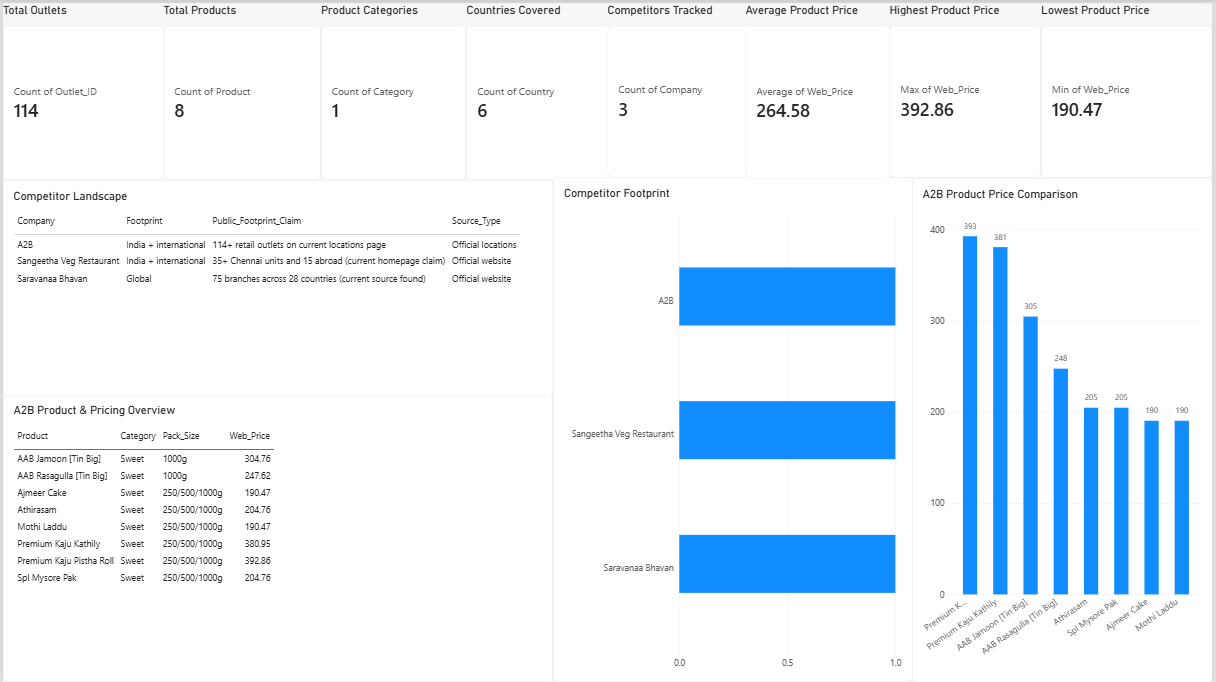

This screenshot's page, from the dashboard's own definition file:
{"tool":"powerbi","page":{"name":"Customer & Menu Intelligence","canvas":[1920,1080],"ordinal":2},"visuals":[{"type":"cardVisual","title":"Total Outlets","fields":{"Data":["Count(A2B_114_Outlets.Outlet_ID)"]},"box":[0,0,255,280],"z":0},{"type":"cardVisual","title":"Total Products","fields":{"Data":["Count(A2B_Menu_Pricing.Product)"]},"box":[255,0,250,280],"z":1000},{"type":"cardVisual","title":"Product Categories","fields":{"Data":["Count(A2B_Menu_Pricing.Category)"]},"box":[505,0,230,280],"z":2000},{"type":"cardVisual","title":"Countries Covered","fields":{"Data":["Count(A2B_International.Country)"]},"box":[735,0,237.5,280],"z":3000},{"type":"tableEx","title":"A2B Product & Pricing Overview","fields":{"Values":["A2B_Menu_Pricing.Product","A2B_Menu_Pricing.Category","A2B_Menu_Pricing.Pack_Size","A2B_Menu_Pricing.Web_Price"]},"box":[10,623.3,863.3,456.7],"z":4000},{"type":"tableEx","title":"Competitor Landscape","fields":{"Values":["Competitors.Company","Competitors.Footprint","Competitors.Public_Footprint_Claim","Competitors.Source_Type"]},"box":[0,280,873.3,343.3],"z":5000},{"type":"cardVisual","title":"Competitors Tracked","fields":{"Data":["Count(Competitors.Company)"]},"box":[960,0,237.5,277.5],"z":6000},{"type":"barChart","title":"Competitor Footprint","fields":{"Category":["Competitors.Company"],"Y":["CountNonNull(Competitors.Footprint)"]},"box":[873.3,276.7,570,803.3],"z":7000},{"type":"lineClusteredColumnComboChart","title":"A2B Product Price Comparison","fields":{"Category":["A2B_Menu_Pricing.Product"],"Y":["Avg(A2B_Menu_Pricing.Web_Price)"]},"box":[1442.5,277.5,477.5,802.5],"z":8000},{"type":"cardVisual","title":"Average Product Price","fields":{"Data":["Avg(A2B_Menu_Pricing.Web_Price)"]},"box":[1177.5,0,230,280],"z":9000},{"type":"cardVisual","title":"Highest Product Price","fields":{"Data":["Max(A2B_Menu_Pricing.Web_Price)"]},"box":[1407.5,0,240,277.5],"z":10000},{"type":"cardVisual","title":"Lowest Product Price","fields":{"Data":["Min(A2B_Menu_Pricing.Web_Price)"]},"box":[1647.5,0,272.5,277.5],"z":11000}]}

Visuals, with their boxes in screenshot pixels (x1, y1, x2, y2), scaled from the page's 1920x1080 canvas onto the 1216x682 screenshot:
"Total Outlets" cardVisual: detection(0, 0, 162, 177)
"Total Products" cardVisual: detection(162, 0, 320, 177)
"Product Categories" cardVisual: detection(320, 0, 466, 177)
"Countries Covered" cardVisual: detection(466, 0, 616, 177)
"A2B Product & Pricing Overview" tableEx: detection(6, 394, 553, 681)
"Competitor Landscape" tableEx: detection(0, 177, 553, 394)
"Competitors Tracked" cardVisual: detection(608, 0, 758, 175)
"Competitor Footprint" barChart: detection(553, 175, 914, 681)
"A2B Product Price Comparison" lineClusteredColumnComboChart: detection(914, 175, 1215, 681)
"Average Product Price" cardVisual: detection(746, 0, 891, 177)
"Highest Product Price" cardVisual: detection(891, 0, 1043, 175)
"Lowest Product Price" cardVisual: detection(1043, 0, 1215, 175)
